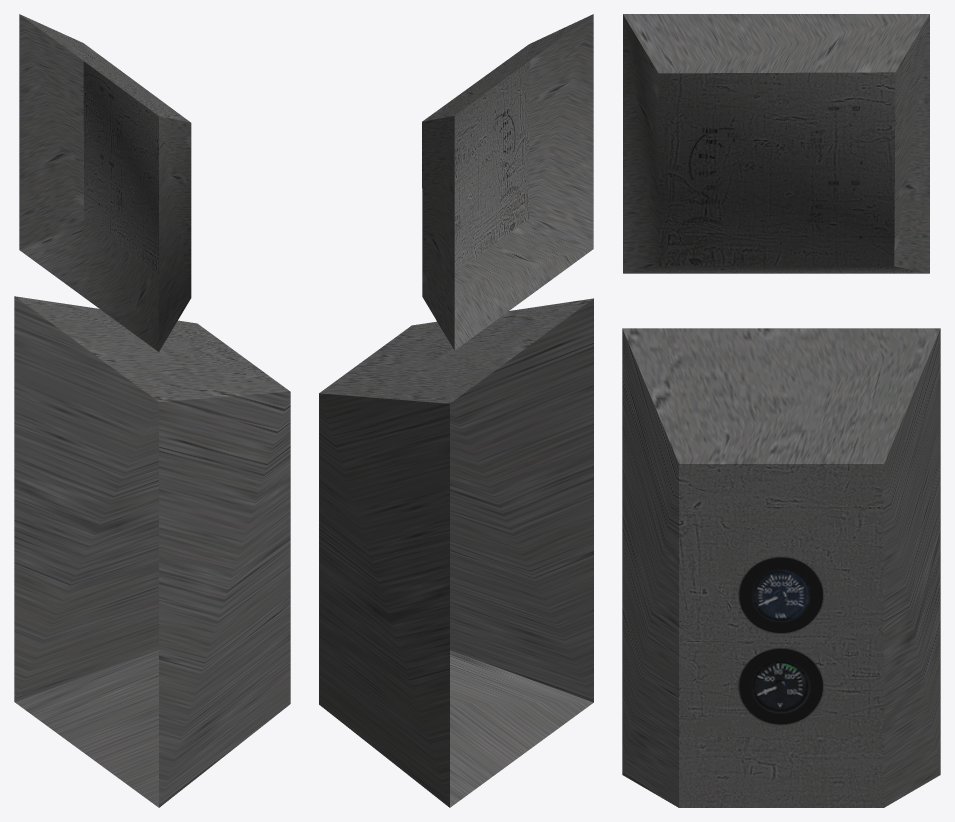
Rendered from p6_cic_mech_panel_a_white_lod3.glb.
3 views of the same model, side by side, from view 1: azimuth 30°, elevation 25°; view 2: azimuth 150°, elevation 25°; view 3: azimuth 270°, elevation 25° (orthographic). The views are drawn at different scales.
Visible parts, largest first — view 1: surf0; view 2: surf0; view 3: surf0.
Boxes of the visible parts, x1,y1,x2,y2 form: surf0: (14,14,290,807); surf0: (319,14,593,807); surf0: (622,14,940,807).
Bounding box in the file's own units: 12.32 × 51.82 × 19.65.
